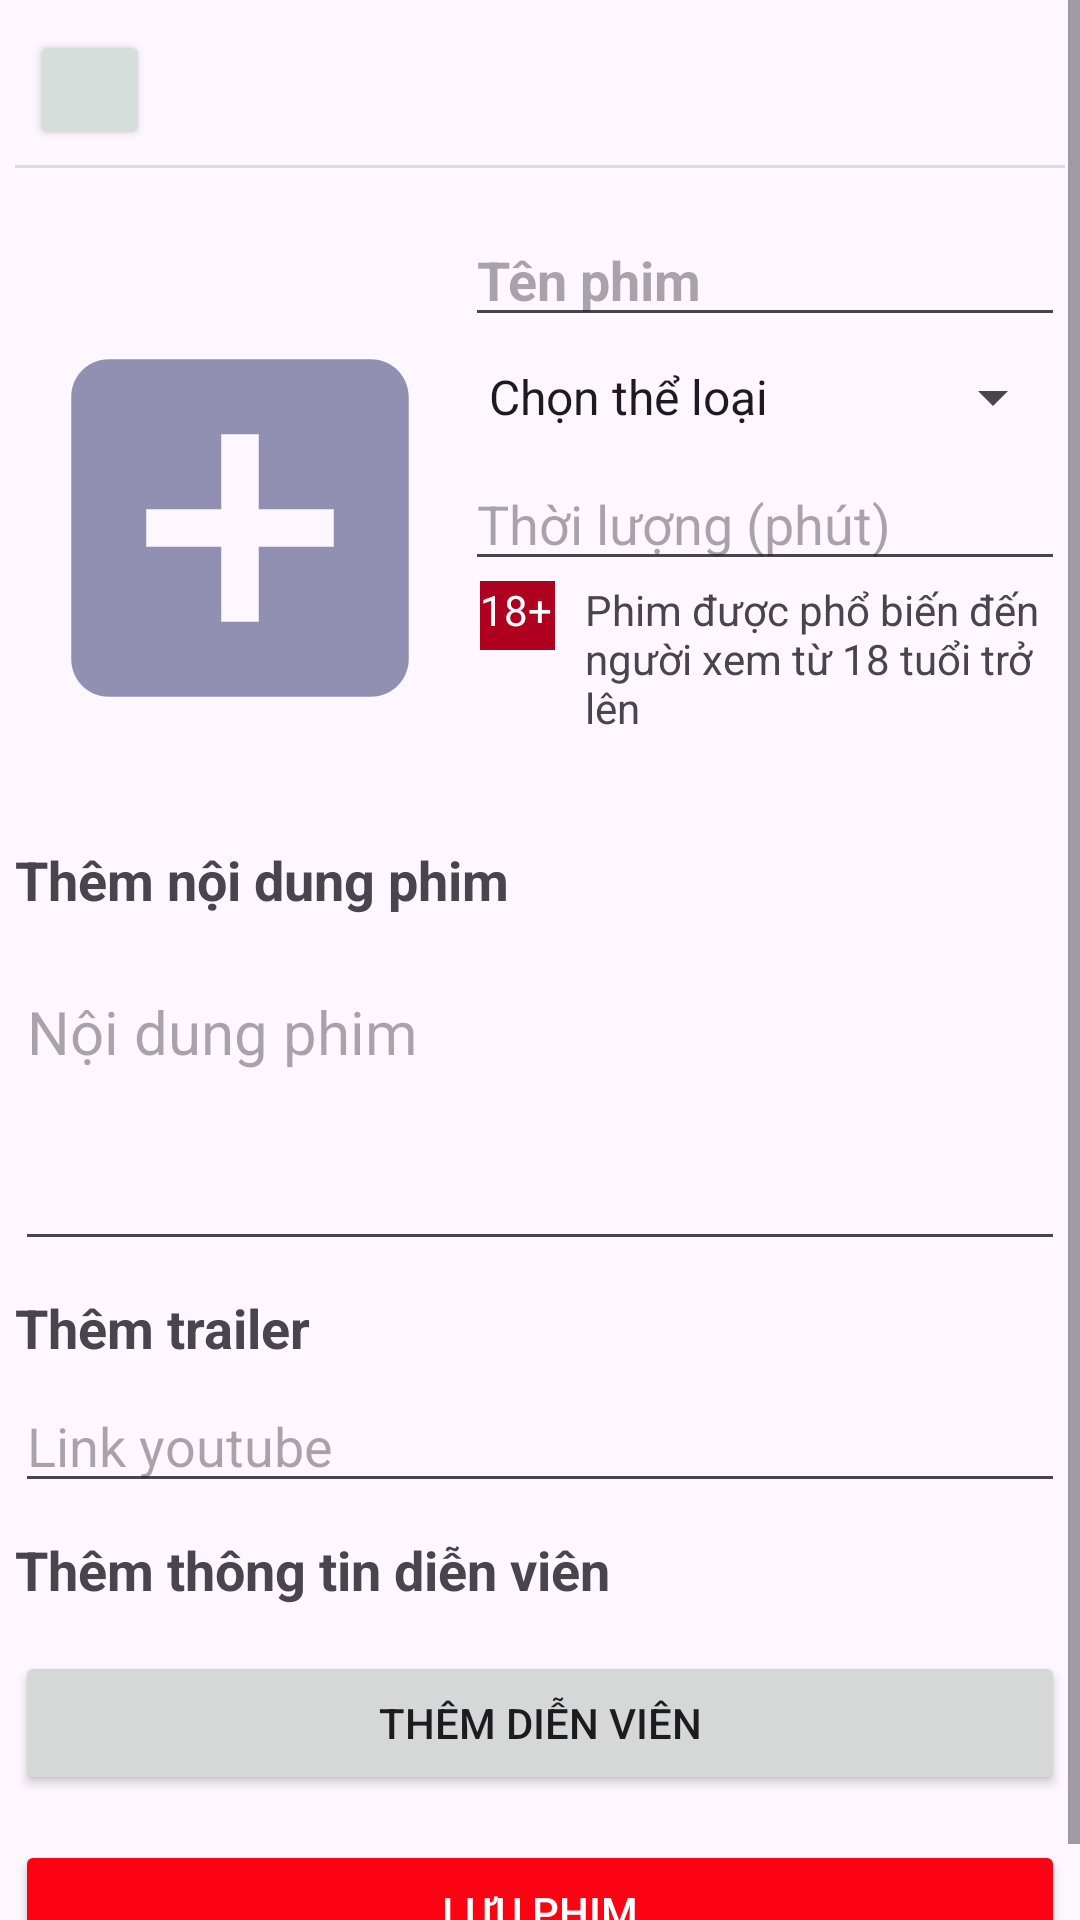

Screen size 1080 x 1920. Icon name, then its center in pixels as point (x, y):
add box: point (240, 528)
